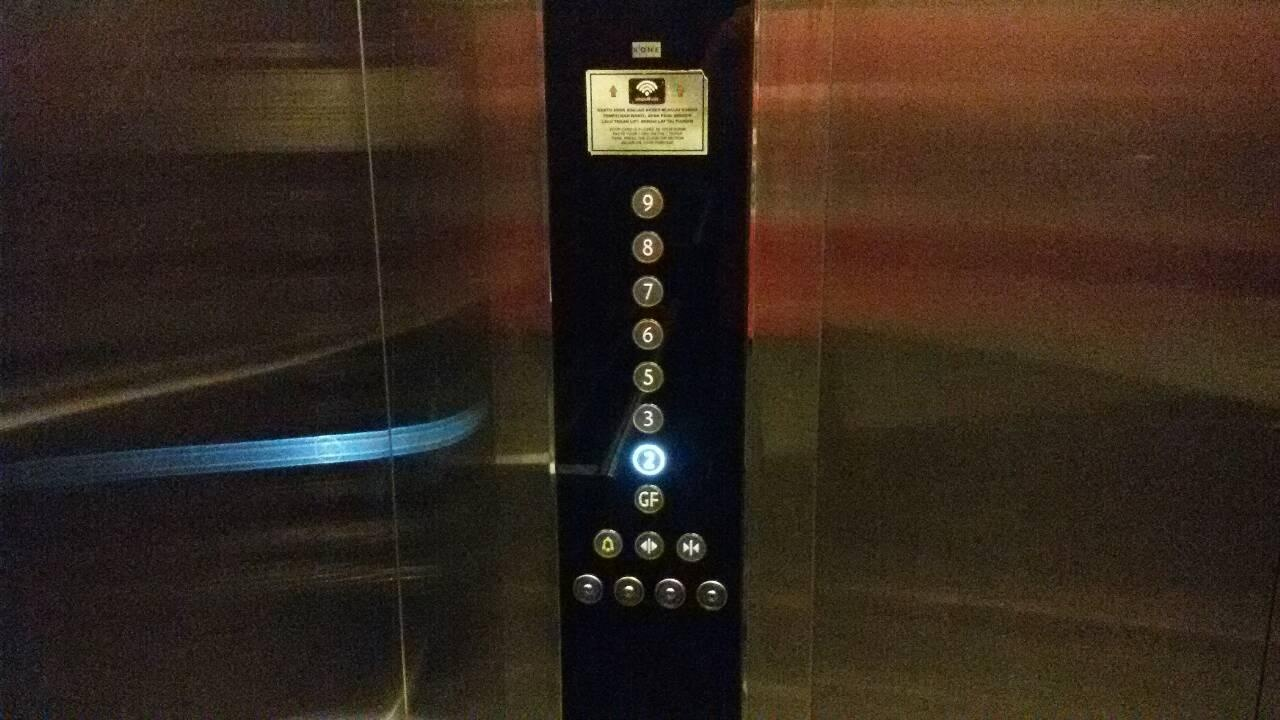2: (631, 444, 667, 476)
3: (632, 402, 663, 434)
5: (631, 359, 664, 394)
6: (630, 319, 663, 353)
7: (632, 277, 663, 309)
8: (631, 231, 665, 265)
9: (629, 186, 664, 221)
GF: (633, 480, 664, 515)
alarm: (593, 526, 623, 559)
close: (674, 533, 706, 563)
empty: (694, 578, 728, 614), (612, 575, 645, 611), (654, 578, 687, 610), (572, 572, 602, 604)
open: (634, 530, 664, 561)
